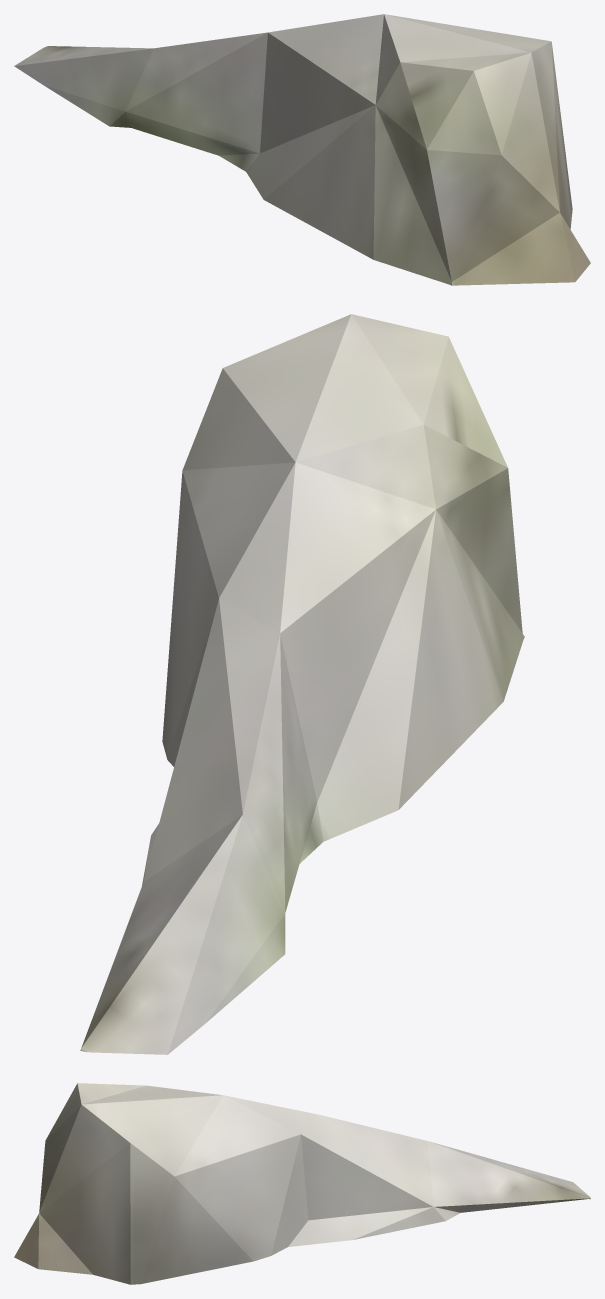
3 renders of one model, top to bottom at view 1: azimuth 30°, elevation 25°; view 2: azimuth 150°, elevation 25°; view 3: azimuth 270°, elevation 25°, orthographic. The views are drawn at different scales.
Bounding box in the file's own units: 0.2094 × 0.1453 × 0.4972.
1 material, 1 textured.
